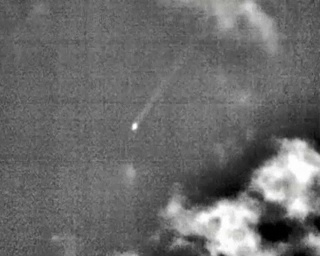AIRPLANE: (127, 57, 197, 135)
